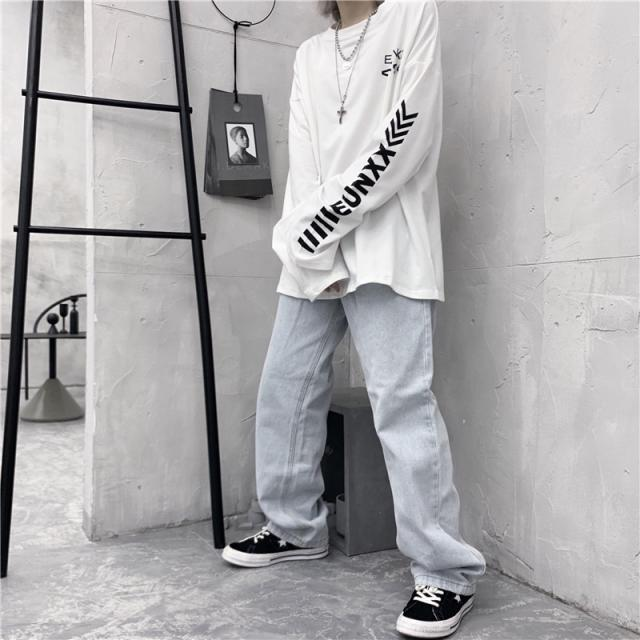Shirt: (270, 0, 462, 303)
